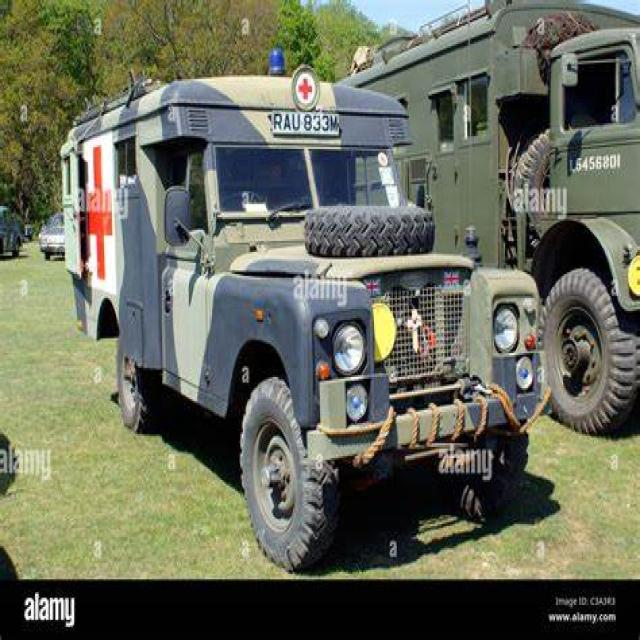ambulance: (254, 34, 304, 95)
